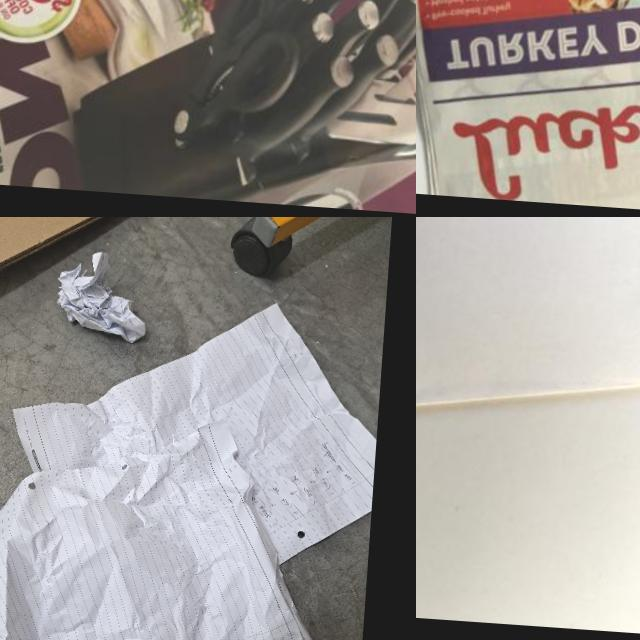papel: (2, 285, 385, 573), (0, 0, 416, 217), (0, 401, 332, 640), (416, 217, 640, 468), (416, 0, 640, 217), (52, 249, 149, 344)
papelão: (0, 217, 238, 312)
